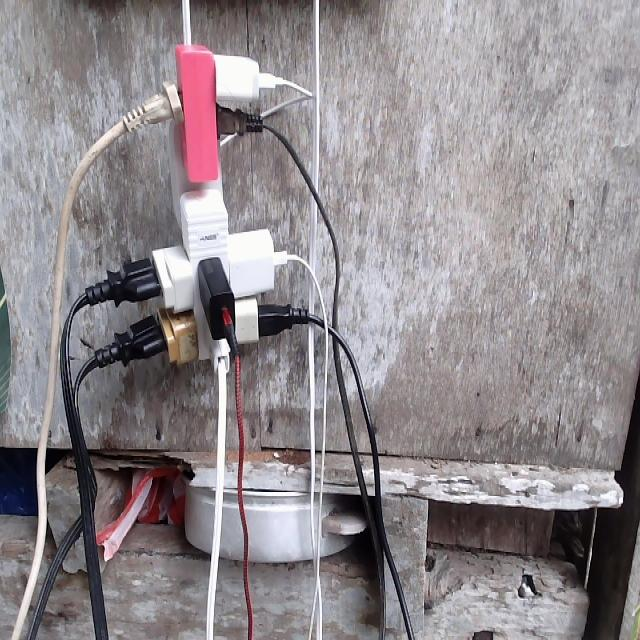-: (81, 47, 315, 376)
